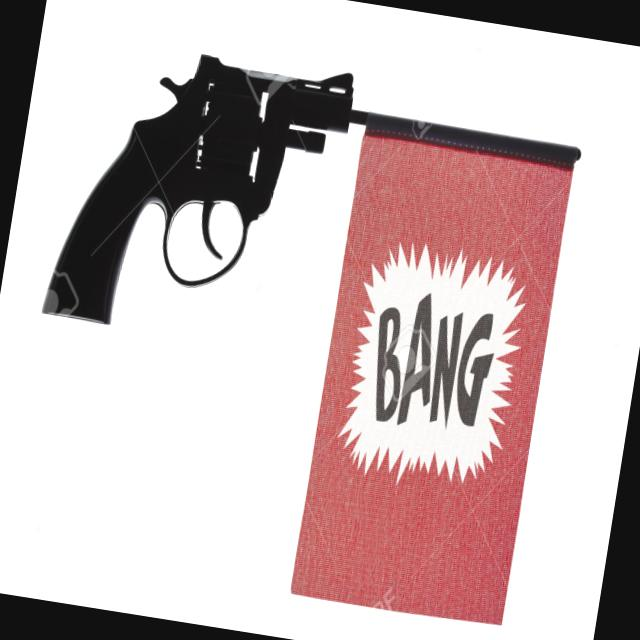handgun: (39, 27, 358, 359)
